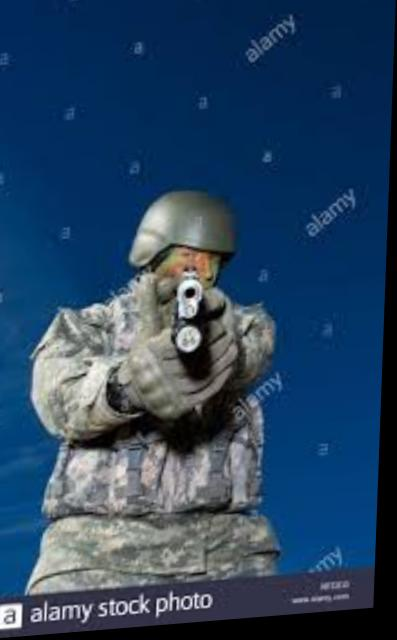other: (20, 167, 303, 595)
